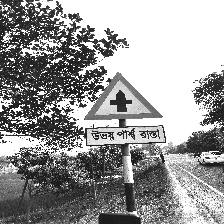Crossroad: (83, 73, 166, 146)
